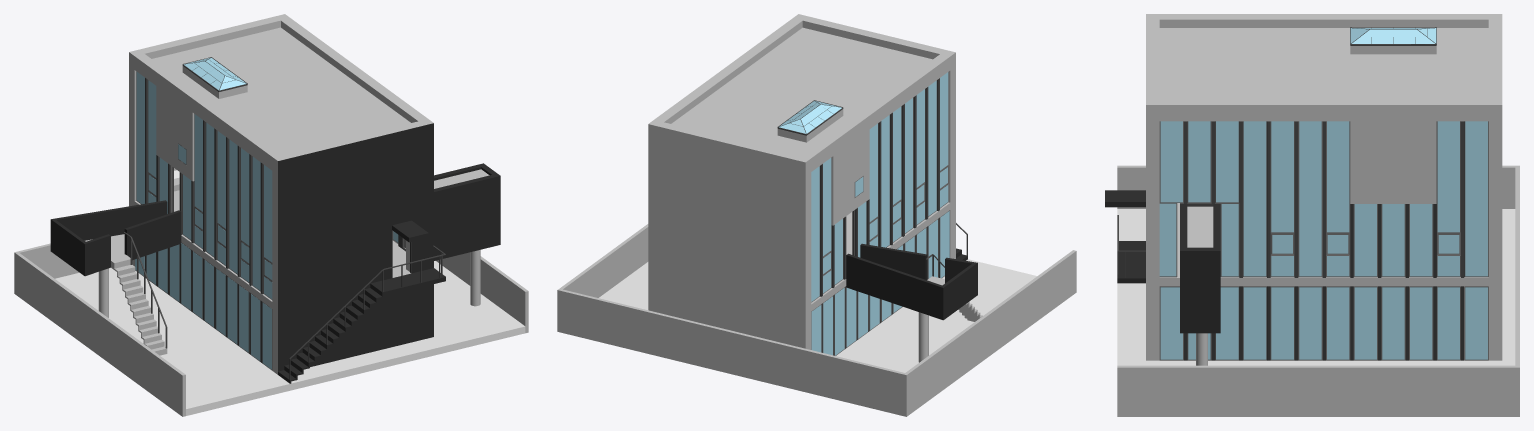
The model's file is zhanguang.FBX.
3 views of the same model, side by side, from view 1: azimuth 30°, elevation 25°; view 2: azimuth 150°, elevation 25°; view 3: azimuth 270°, elevation 25° (orthographic). The views are drawn at different scales.
Visible parts, largest first — view 1: ground_01, ceiling_09, wall_27, wall_21, wall_03, wall_26, wall_19, wall_07, detail_10, wall_28, detail_16, wall_04 (+38 smaller); view 2: wall_02, ceiling_09, wall_29, wall_31, wall_03, ground_01, wall_32, wall_06, wall_07, wall_30, detail_16, wall_20 (+28 smaller); view 3: ceiling_09, wall_20, wall_08, ground_01, wall_22, wall_07, glass_38, glass_28, glass_42, wall_18, detail_04, ceiling_05 (+49 smaller).
Part boxes in pixels (x1,y1,x2,y2): ground_01: (55,261,525,415); ceiling_09: (152,27,410,154); wall_27: (272,137,433,243); wall_21: (272,206,433,312); wall_03: (14,252,185,416); wall_26: (272,284,433,374); wall_19: (434,175,500,260); wall_07: (134,54,281,170); detail_10: (278,268,445,383); wall_28: (272,119,433,174); detail_16: (203,120,263,294); wall_04: (156,86,194,181); wall_02: (557,289,906,416); ceiling_09: (671,27,932,155); wall_29: (648,138,811,245); wall_31: (648,207,811,315); wall_03: (905,250,1076,416); ground_01: (598,259,1036,372); wall_32: (648,277,811,349); wall_06: (846,253,943,319); wall_07: (801,54,950,171); wall_30: (648,120,811,176); detail_16: (878,78,939,246); wall_20: (558,224,648,297); ceiling_09: (1159,28,1488,99); wall_20: (1117,365,1519,416); wall_08: (1159,99,1488,121); ground_01: (1117,209,1515,365); wall_22: (1350,121,1436,203); wall_07: (1159,14,1488,27); glass_38: (1243,121,1266,276); glass_28: (1465,121,1487,276); glass_42: (1299,121,1321,276); wall_18: (1180,247,1220,333); detail_04: (1180,121,1325,277); ceiling_05: (1159,203,1488,286).
Bounding box in the file's own units: 620 × 390 × 538.
